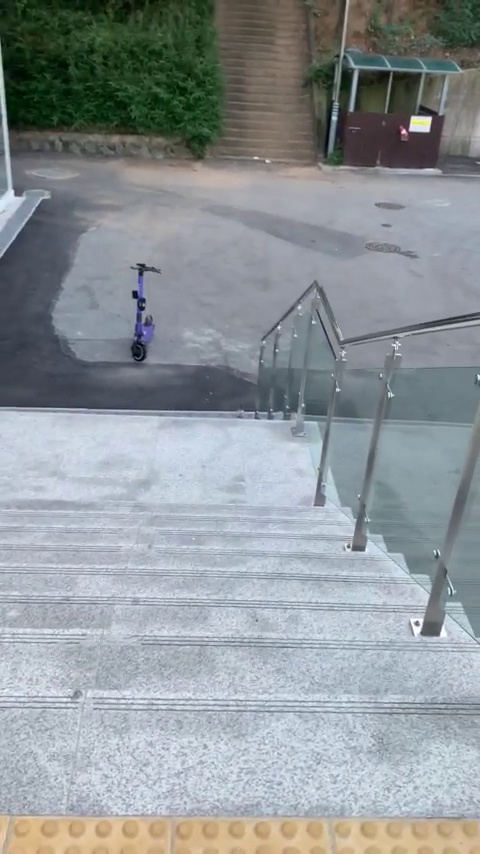beam: (120, 251, 165, 367)
